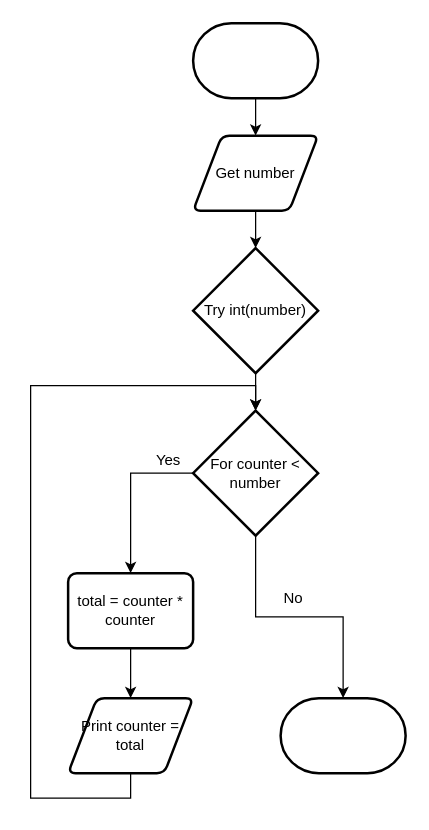
Image size: 429x830. Some labels were removed from this diagram. Here are the shapes that lost their labels. From the top down, the centre of each, then its label:
At (255,60): "Start".
At (342,735): "Stop".
